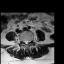CCS_stenosis: (25, 39, 27, 46)
LFS_normal: (29, 38, 30, 43)
LLS_normal: (27, 38, 29, 45)
RFS_normal: (22, 38, 23, 44)
RLS_normal: (23, 39, 25, 45)
